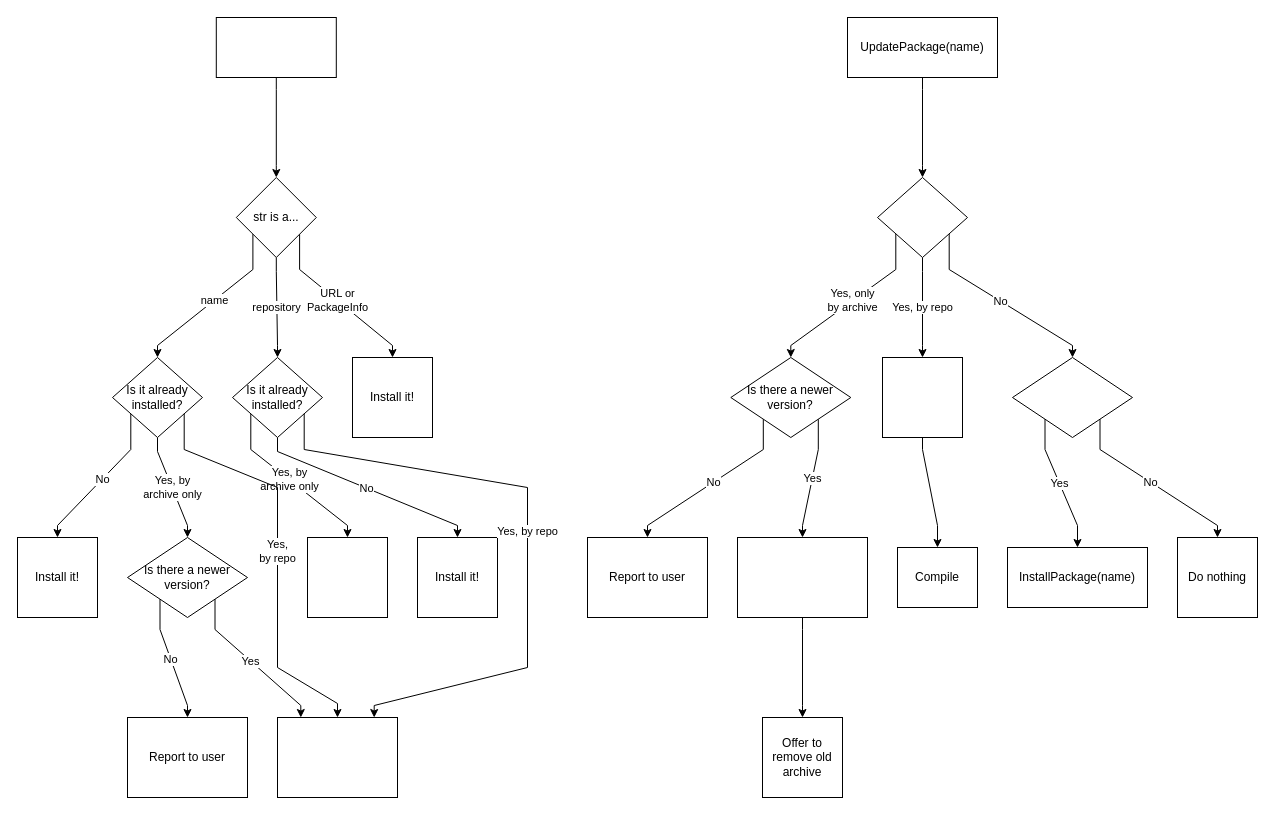
This 1275x815 diagram has some shape labels left out. Here are the shapes that lost their labels. From the top down, the centre of each, then its label:
At [275,47]: "InstallPackage(str)".
At [922,217]: "Is it installed?".
At [922,397]: "git pull".
At [1072,397]: "Offer to install".
At [347,577]: "Install it".
At [802,577]: "Install it (from its PackageInfo)".
At [337,757]: "Offer to UpdatePackage(str)".
